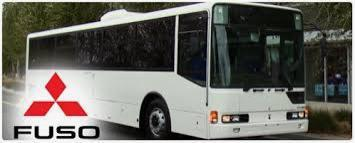bus: (13, 4, 309, 138)
